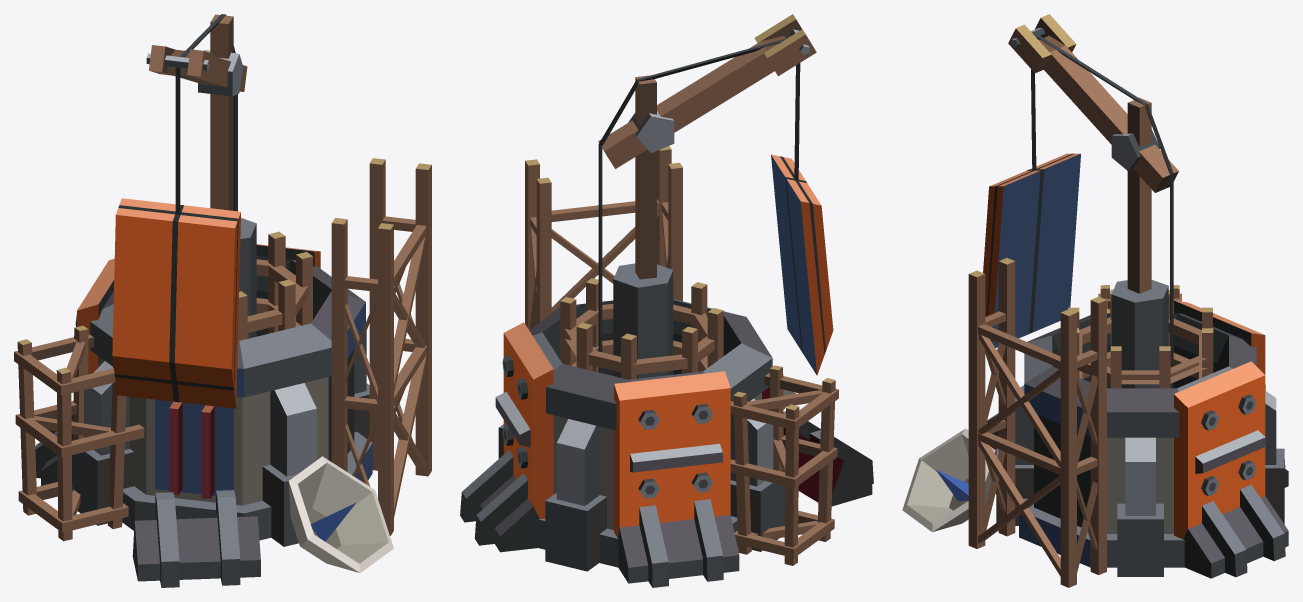
File: mortar_lvl4_construction.fbx
3 views of the same model, side by side, from view 1: azimuth 30°, elevation 25°; view 2: azimuth 150°, elevation 25°; view 3: azimuth 270°, elevation 25° (orthographic). The views are drawn at different scales.
Parts seen in each view (by area): view 1: TB_CanonTower_Lvl4_A_Cons; view 2: TB_CanonTower_Lvl4_A_Cons; view 3: TB_CanonTower_Lvl4_A_Cons.
Part boxes in pixels (x1=…): TB_CanonTower_Lvl4_A_Cons: x1=14, y1=14, x2=431, y2=587; TB_CanonTower_Lvl4_A_Cons: x1=460, y1=14, x2=873, y2=587; TB_CanonTower_Lvl4_A_Cons: x1=902, y1=14, x2=1288, y2=587.
Size of the model in its own units: 9.93 by 13.53 by 10.58.
